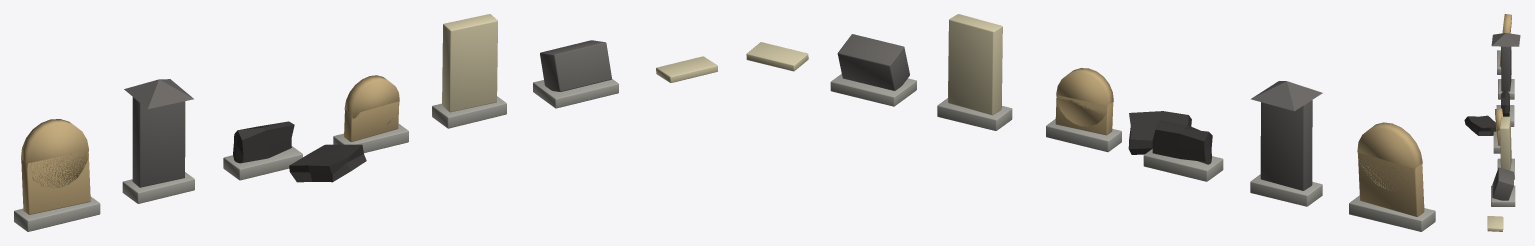
The model's file is graveyard_grave_row_2.glb.
3 renders of one model, left to right at view 1: azimuth 30°, elevation 25°; view 2: azimuth 150°, elevation 25°; view 3: azimuth 270°, elevation 25°, orthographic. The views are drawn at different scales.
Visible parts, largest first — view 1: stone_4_slab, stone_1_slab, stone_0_slab, stone_0_top, slant_5, snap_top, snap_stub, stone_3_slab, stone_3_top, stone_0_base, slant_5_base, snap_base (+5 smaller); view 2: stone_4_slab, stone_1_slab, stone_0_slab, slant_5, stone_3_top, stone_0_top, snap_stub, snap_top, stone_0_base, slant_5_base, snap_base, stone_3_base (+5 smaller); view 3: stone_4_slab, slant_5, snap_top, stone_1_slab, stone_1_gable, slant_5_base, flat_6, snap_stub, stone_1_base, stone_0_top, stone_3_top, snap_base (+4 smaller).
Boxes of the visible parts, x1,y1,x2,y2 form: stone_4_slab: (442,14,497,112); stone_1_slab: (132,97,185,187); stone_0_slab: (21,151,90,214); stone_0_top: (21,119,88,188); slant_5: (540,40,611,91); snap_top: (289,144,366,182); snap_stub: (233,121,294,163); stone_3_slab: (344,101,399,141); stone_3_top: (344,75,399,124); stone_0_base: (14,196,100,231); slant_5_base: (533,79,618,108); snap_base: (223,146,302,180); stone_4_slab: (948,14,1002,115); stone_1_slab: (1260,100,1312,190); stone_0_slab: (1358,152,1424,216); slant_5: (837,34,909,90); stone_3_top: (1056,68,1113,126); stone_0_top: (1357,122,1422,190); snap_stub: (1152,120,1212,164); snap_top: (1128,111,1191,154); stone_0_base: (1349,195,1435,231); slant_5_base: (830,74,916,106); snap_base: (1143,149,1223,181); stone_3_base: (1046,119,1121,152); stone_4_slab: (1499,116,1511,170); slant_5: (1492,167,1513,200); snap_top: (1464,115,1496,135); stone_1_slab: (1501,46,1511,91); stone_1_gable: (1491,33,1520,46); slant_5_base: (1491,185,1515,206); flat_6: (1487,216,1503,231); snap_stub: (1501,90,1509,116); stone_1_base: (1498,79,1514,99); stone_0_top: (1502,14,1511,33); stone_3_top: (1495,108,1502,131); snap_base: (1496,105,1514,126).
Size of the model in its own units: 8.56 by 1.4 by 1.16.
